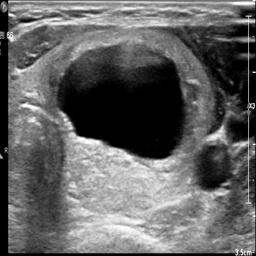mass: (59, 39, 189, 165)
